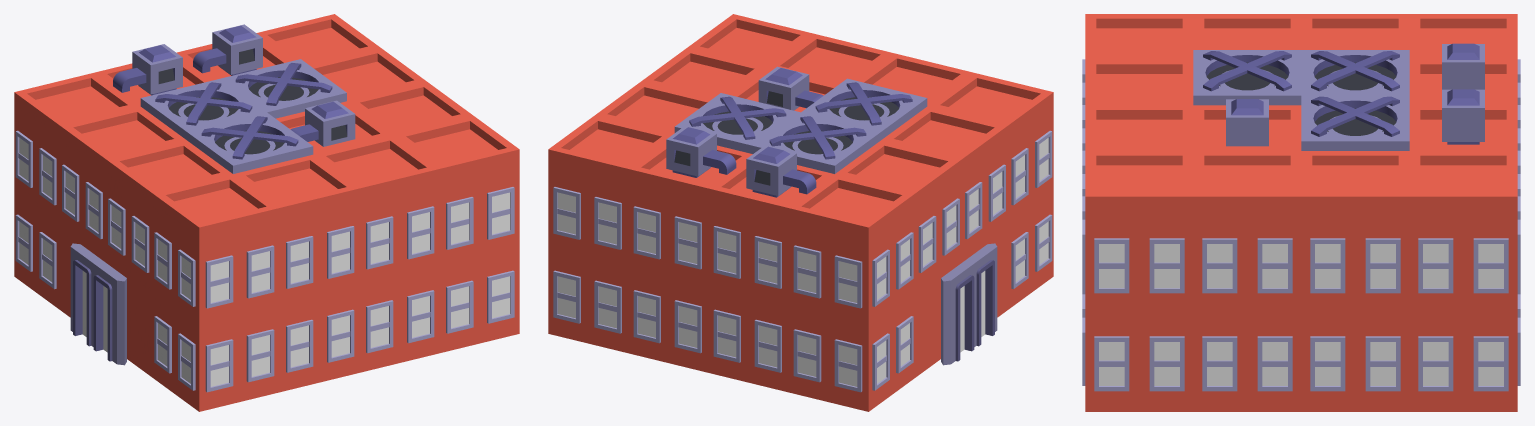
Rendered from factory_1.glb.
The picture shows the model from 3 angles, left to right: view 1: azimuth 30°, elevation 25°; view 2: azimuth 150°, elevation 25°; view 3: azimuth 270°, elevation 25°; orthographic projection. The views are drawn at different scales.
Visible parts, largest first — view 1: mergedBlocks(Clone); view 2: mergedBlocks(Clone); view 3: mergedBlocks(Clone).
Part boxes in pixels (bbox=[...]): mergedBlocks(Clone): bbox=[14, 14, 519, 411]; mergedBlocks(Clone): bbox=[548, 14, 1053, 411]; mergedBlocks(Clone): bbox=[1082, 14, 1520, 411].
Bounding box in the file's own units: 4.22 × 2.55 × 4.06.
